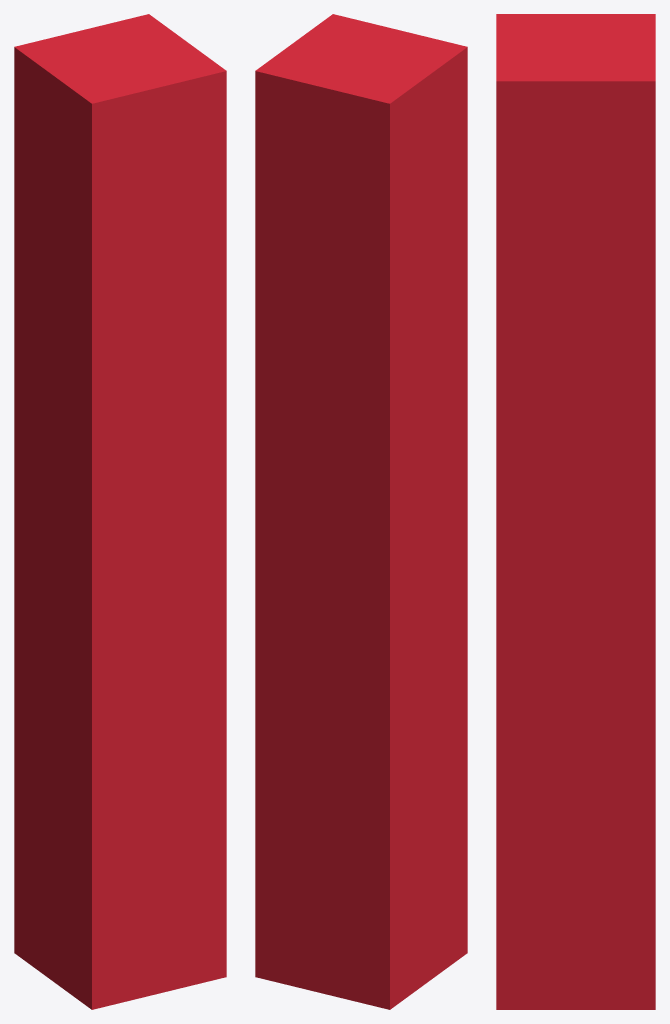
The model's file is alien_bullet.fbx.
3 views of the same model, side by side, from view 1: azimuth 30°, elevation 25°; view 2: azimuth 150°, elevation 25°; view 3: azimuth 270°, elevation 25° (orthographic). The views are drawn at different scales.
Visible parts, largest first — view 1: Cube; view 2: Cube; view 3: Cube.
Part boxes in pixels (x1,y1,x2,y2): Cube: [14, 14, 226, 1009]; Cube: [255, 14, 467, 1009]; Cube: [496, 14, 655, 1009].
Bounding box in the file's own units: 85 × 546 × 85.
